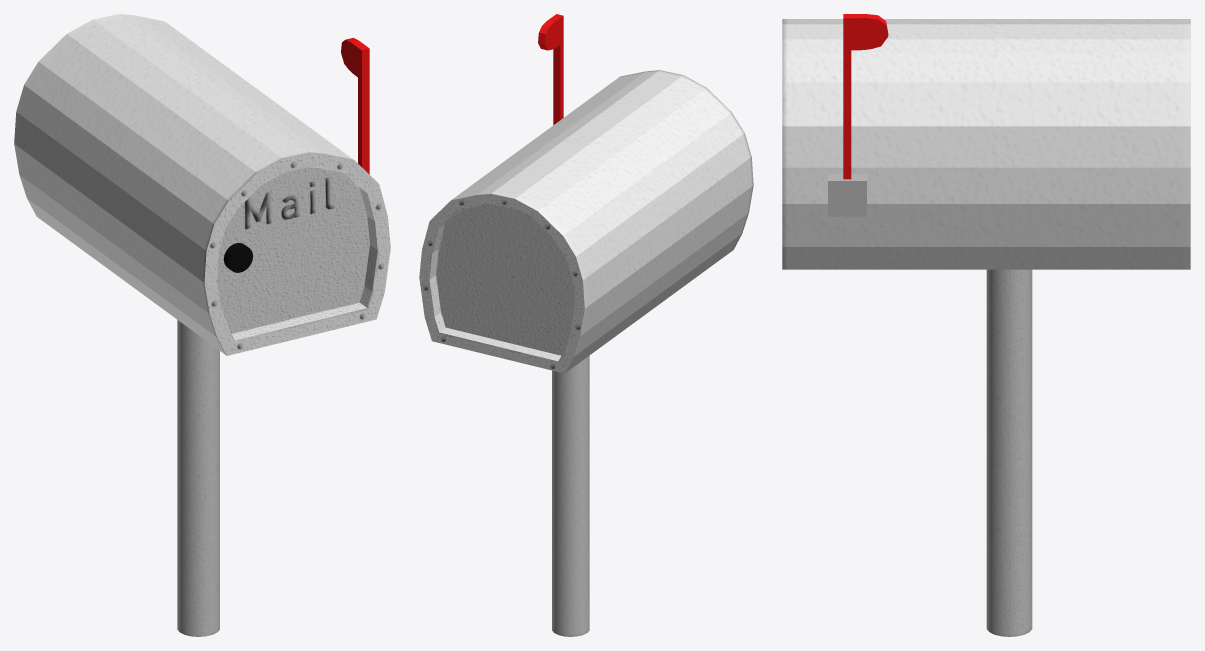
3 renders of one model, left to right at view 1: azimuth 30°, elevation 25°; view 2: azimuth 150°, elevation 25°; view 3: azimuth 270°, elevation 25°, orthographic. The views are drawn at different scales.
Parts seen in each view (by area): view 1: Line001, Cylinder001, Line002, Cylinder002; view 2: Line001, Cylinder001, Line002; view 3: Line001, Cylinder001, Line002, Box001.
Part boxes in pixels (left/top/right/bottom): Line001: left=14, top=14, right=390, bottom=355; Cylinder001: left=177, top=320, right=219, bottom=636; Line002: left=341, top=37, right=369, bottom=174; Cylinder002: left=223, top=243, right=252, bottom=272; Line001: left=419, top=70, right=753, bottom=373; Cylinder001: left=552, top=355, right=589, bottom=636; Line002: left=538, top=14, right=563, bottom=124; Line001: left=782, top=19, right=1190, bottom=269; Cylinder001: left=986, top=269, right=1032, bottom=636; Line002: left=843, top=14, right=888, bottom=179; Box001: left=828, top=174, right=866, bottom=216.
Size of the model in its own units: 24.85 by 73.96 by 41.61.
5 materials, 5 textured.
